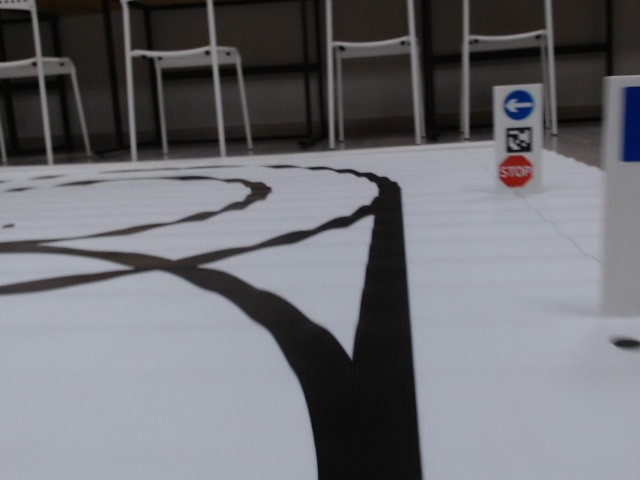Stop: (496, 155, 539, 188)
